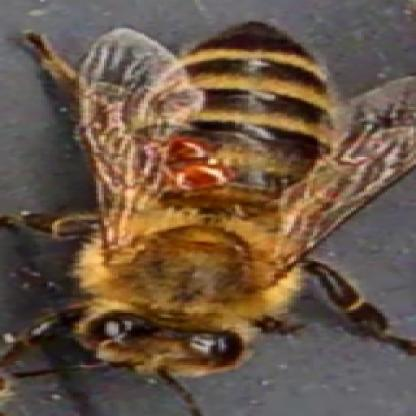bee: (74, 13, 304, 378)
vaoora: (160, 139, 210, 161), (184, 167, 231, 188)
